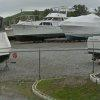Boat: (7, 10, 95, 53)
